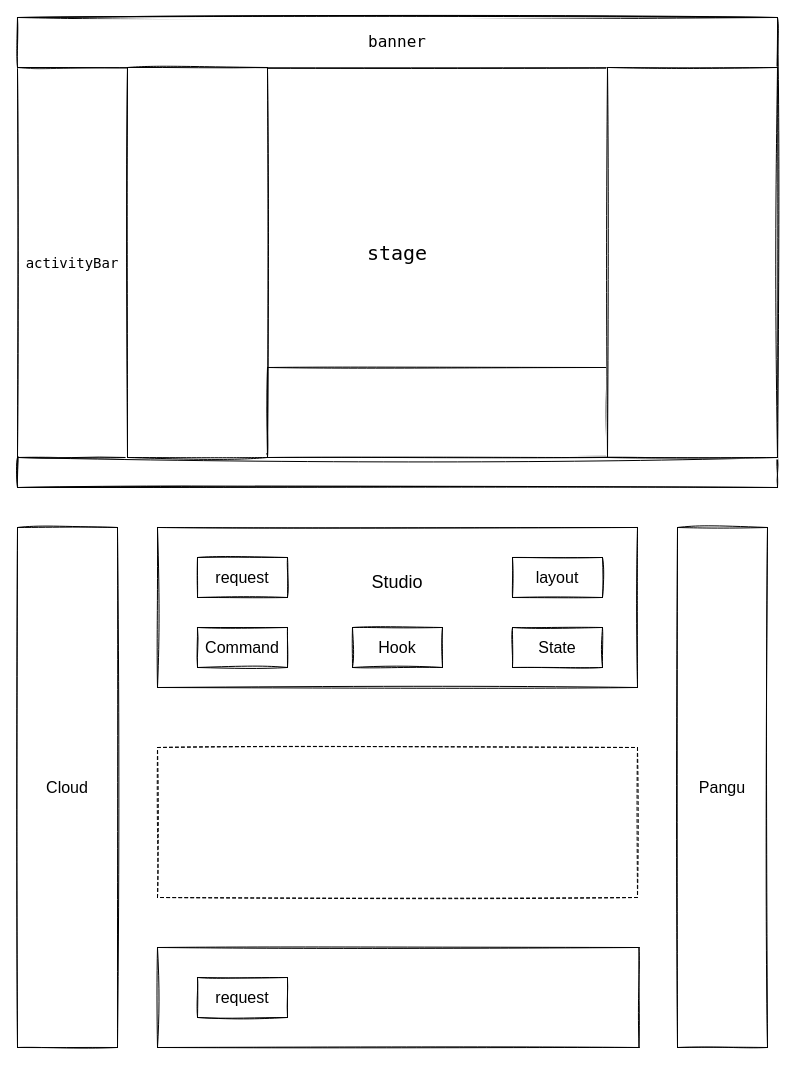
Some shapes in this 795 by 1065 pixel diagram are drawn without their labels. The shapes that lost their labels are listed below. From the top down, each one's box as (x1, y1, x2, y2) in pixels, then its label:
(126, 66, 268, 458): primarySidebar
(606, 66, 778, 458): secondarySidebar
(266, 366, 608, 458): panel
(16, 456, 778, 488): statusBar
(156, 746, 638, 898): Admin
(156, 946, 639, 1048): nwa
